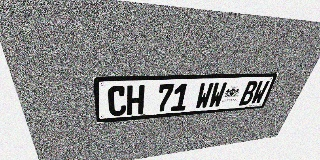1: (171, 83, 190, 111)
7: (155, 84, 174, 113)
B: (239, 81, 259, 105)
C: (107, 86, 126, 117)
H: (127, 85, 145, 115)
W: (194, 82, 214, 109), (208, 82, 228, 108), (250, 80, 270, 105)
